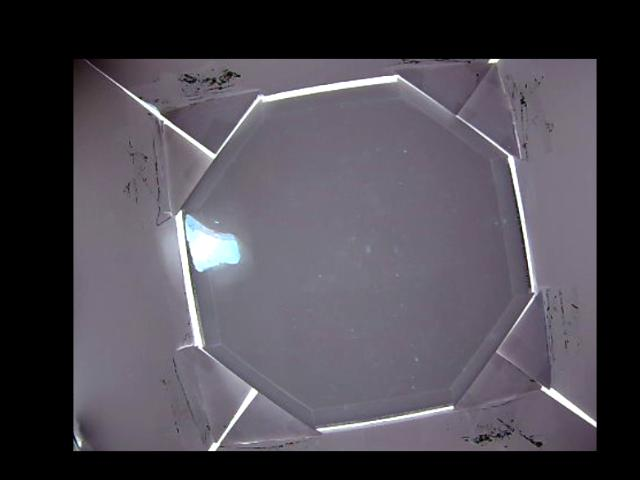Brisk: (184, 214, 240, 271)
